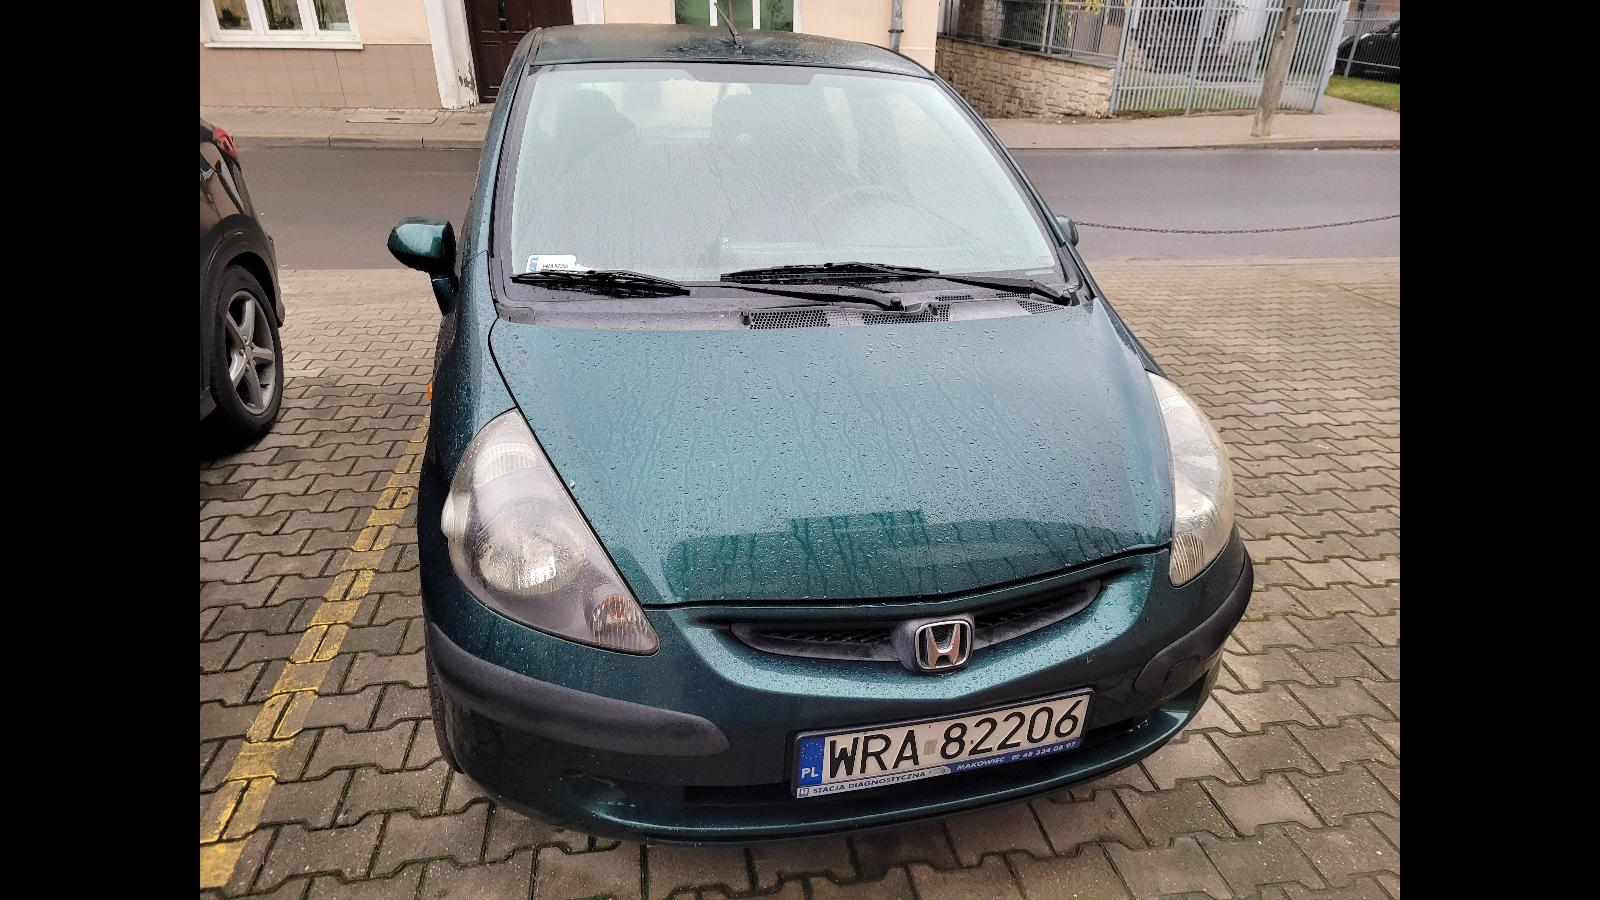plates: (790, 686, 1096, 800)
